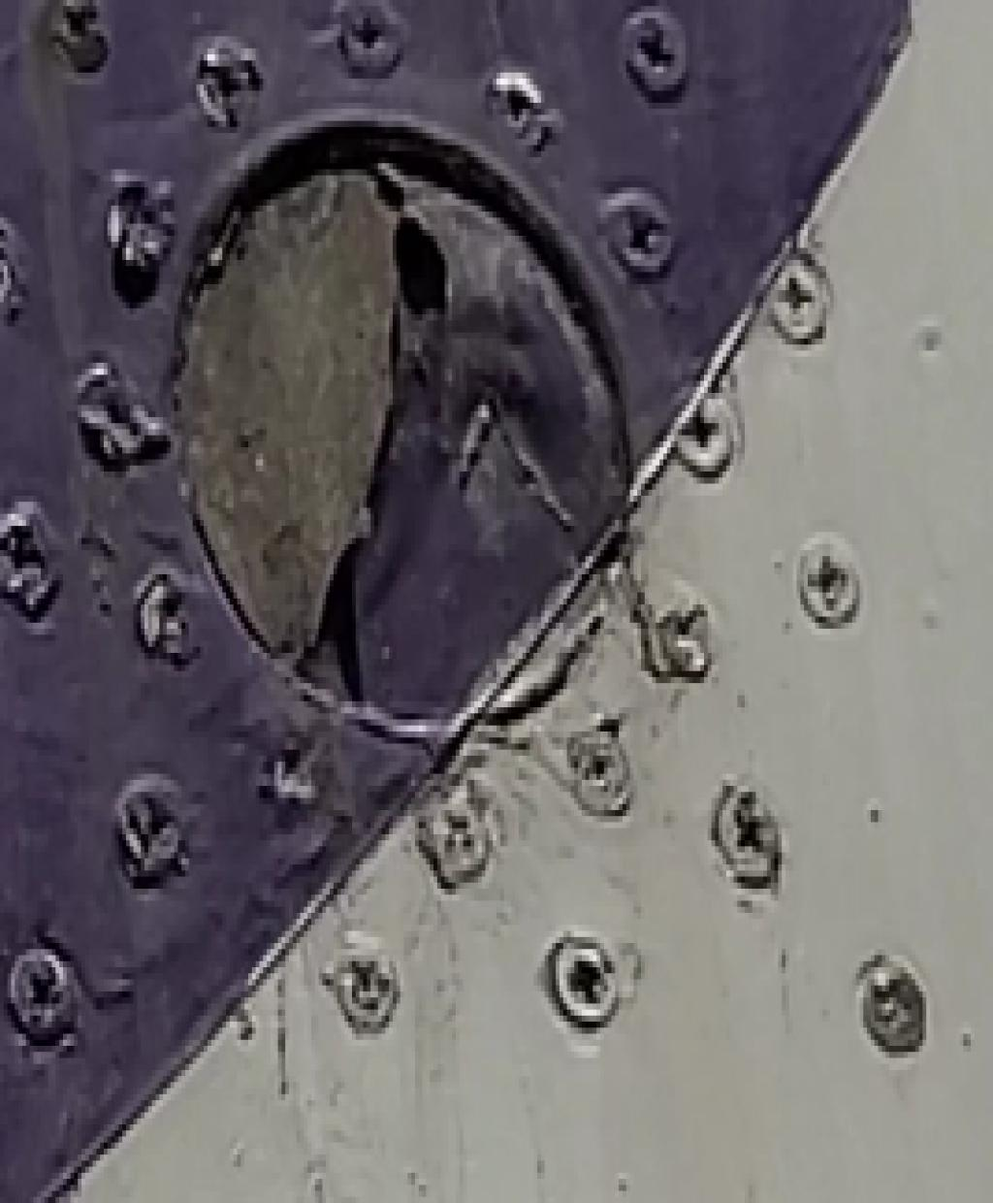corrosion: (182, 151, 404, 665)
